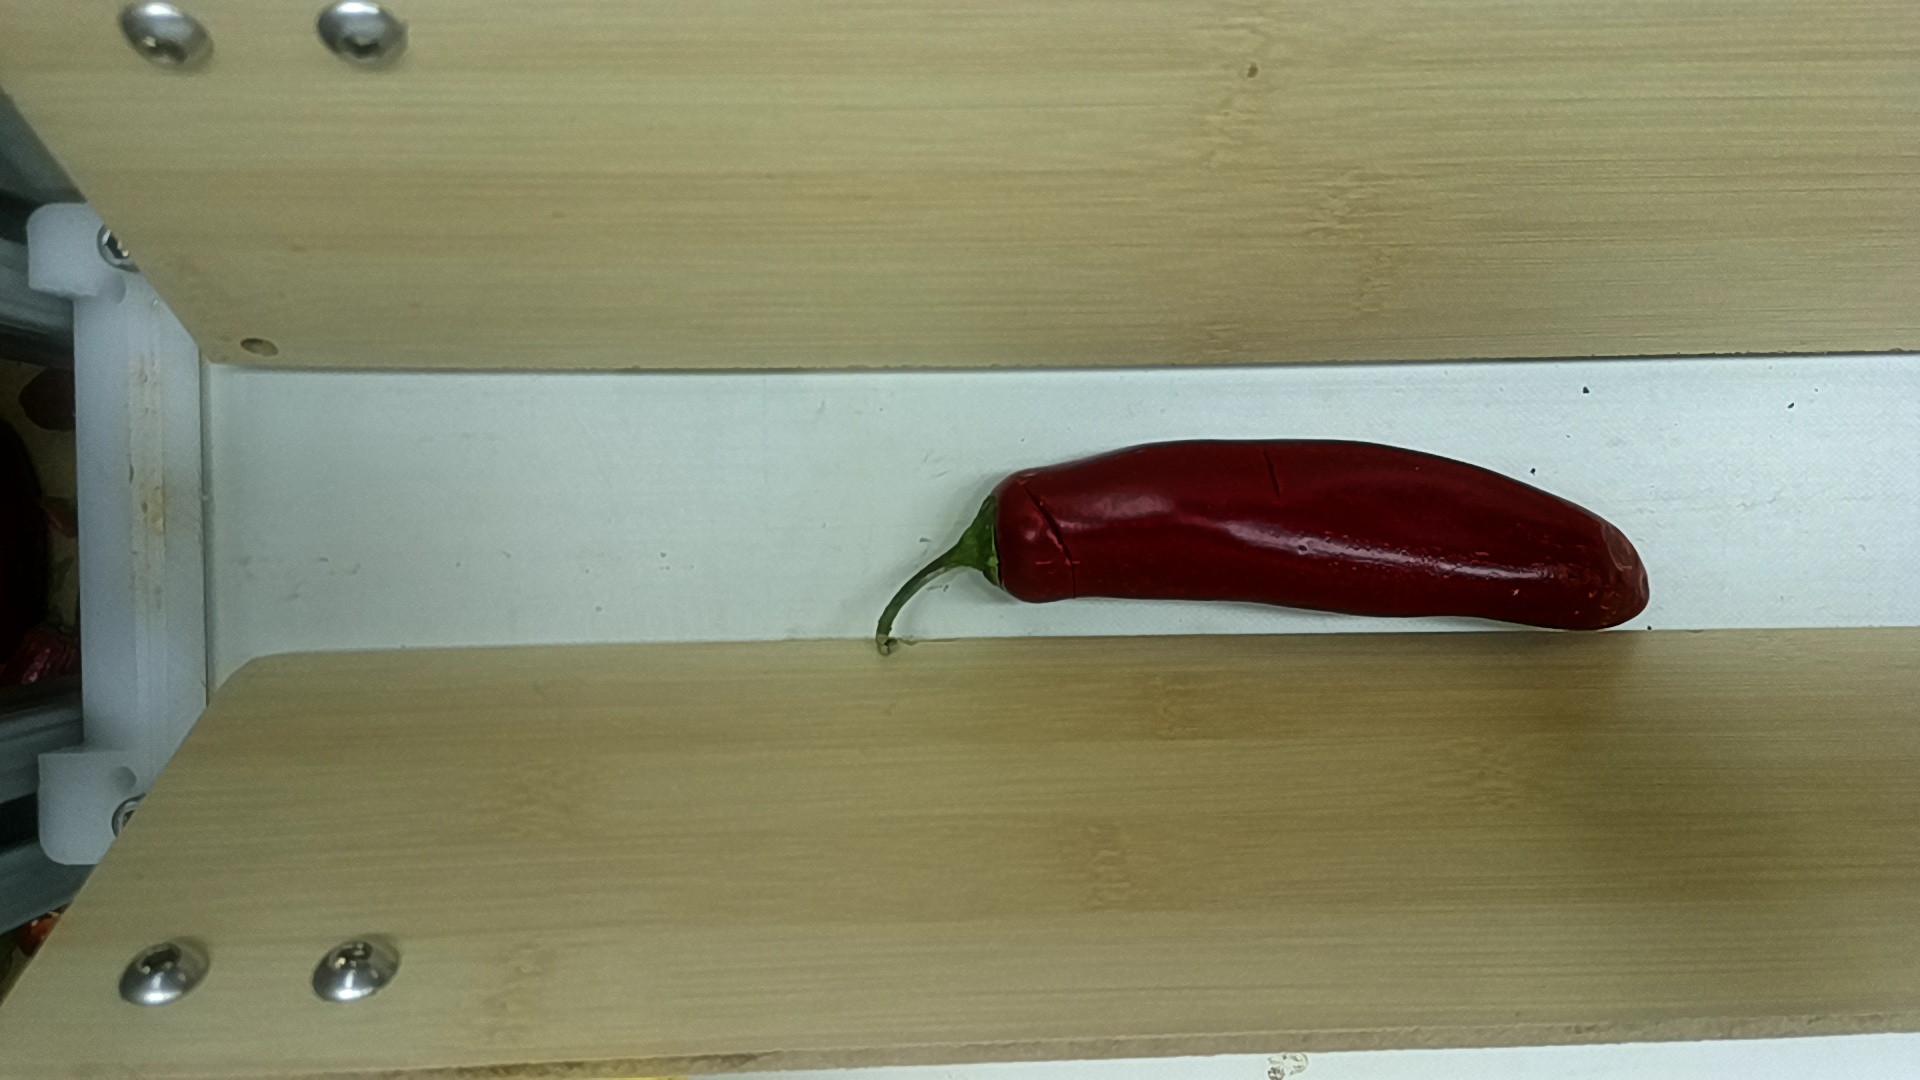Cut Point: (968, 462, 1035, 612)
